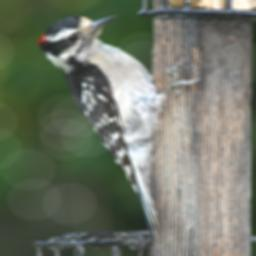Woodpecker: (39, 14, 201, 237)
